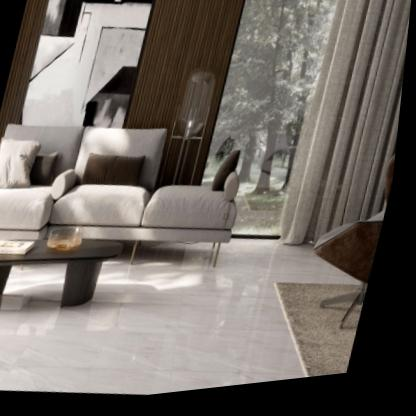Carpet: (281, 289, 373, 386)
Ceramic floor: (0, 267, 314, 399)
Curtains: (285, 0, 413, 254)
Sofa: (0, 100, 260, 293)
Wall Panel: (0, 0, 251, 170)
